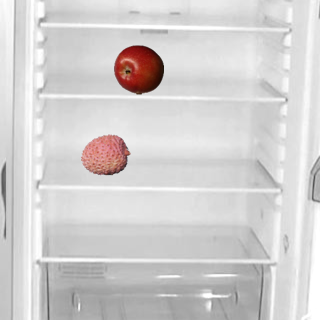Apple Braeburn: (113, 44, 163, 94)
Lychee: (80, 129, 130, 179)
